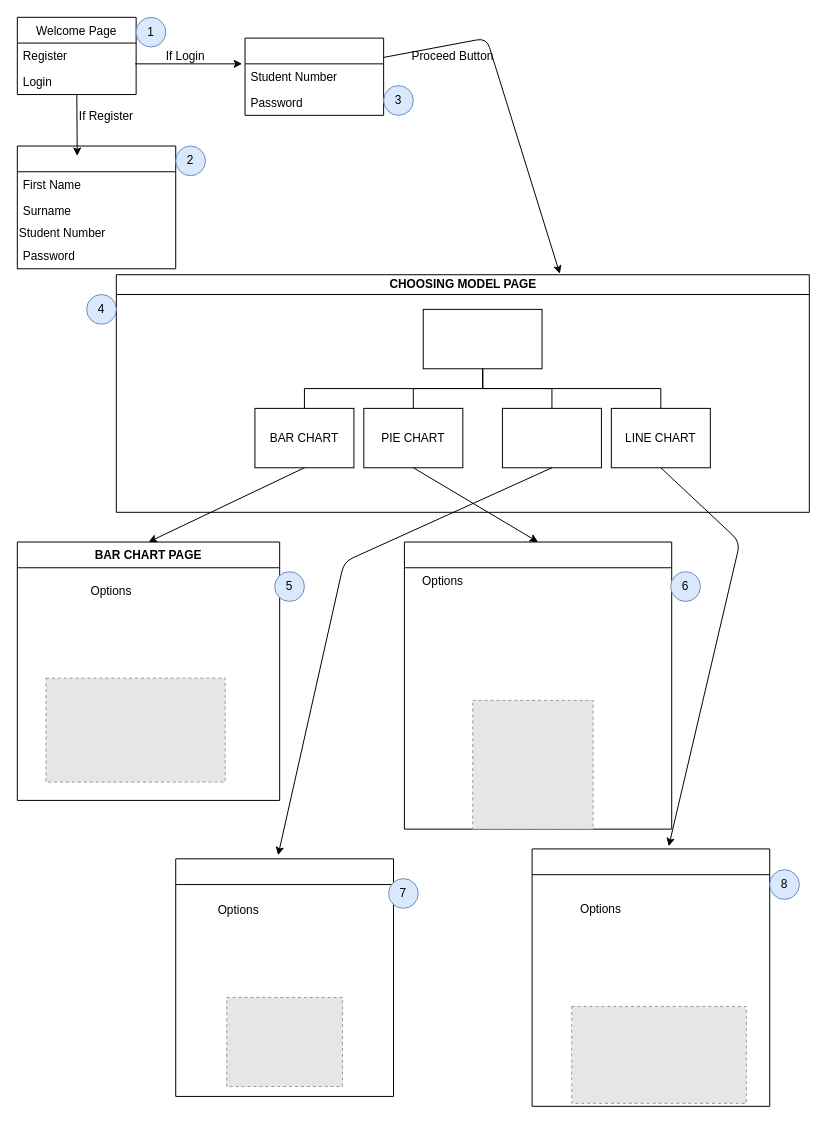
Some shapes in this 827 by 1124 pixel diagram are drawn without their labels. Grey dashed boxes stand in for pictures. Each missing label, with the box of its shape:
LINE CHART PAGE: (531, 848, 770, 1106)
Login Page: (244, 37, 384, 115)
MODELS: (422, 308, 542, 369)
PIE CHART PAGE: (403, 541, 672, 829)
Registration Page: (16, 145, 176, 269)
SCATTER: (501, 407, 601, 468)
SCATTER PAGE: (175, 858, 394, 1096)
